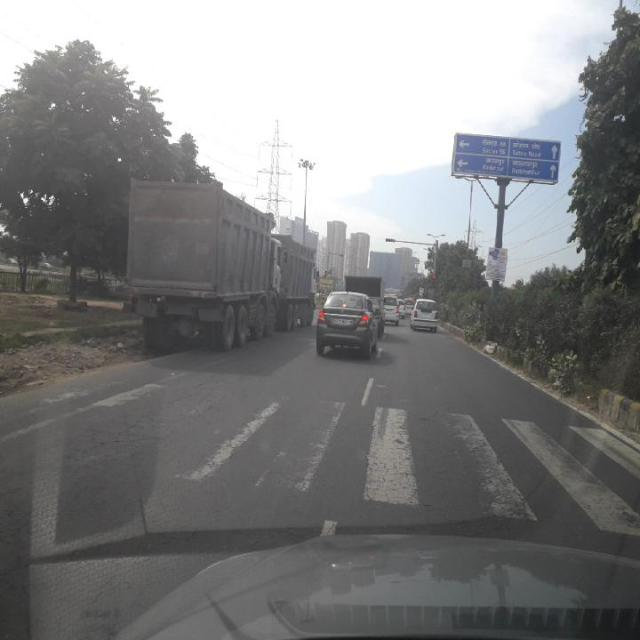D20: (4, 388, 636, 522)
D43: (1, 387, 613, 522)
